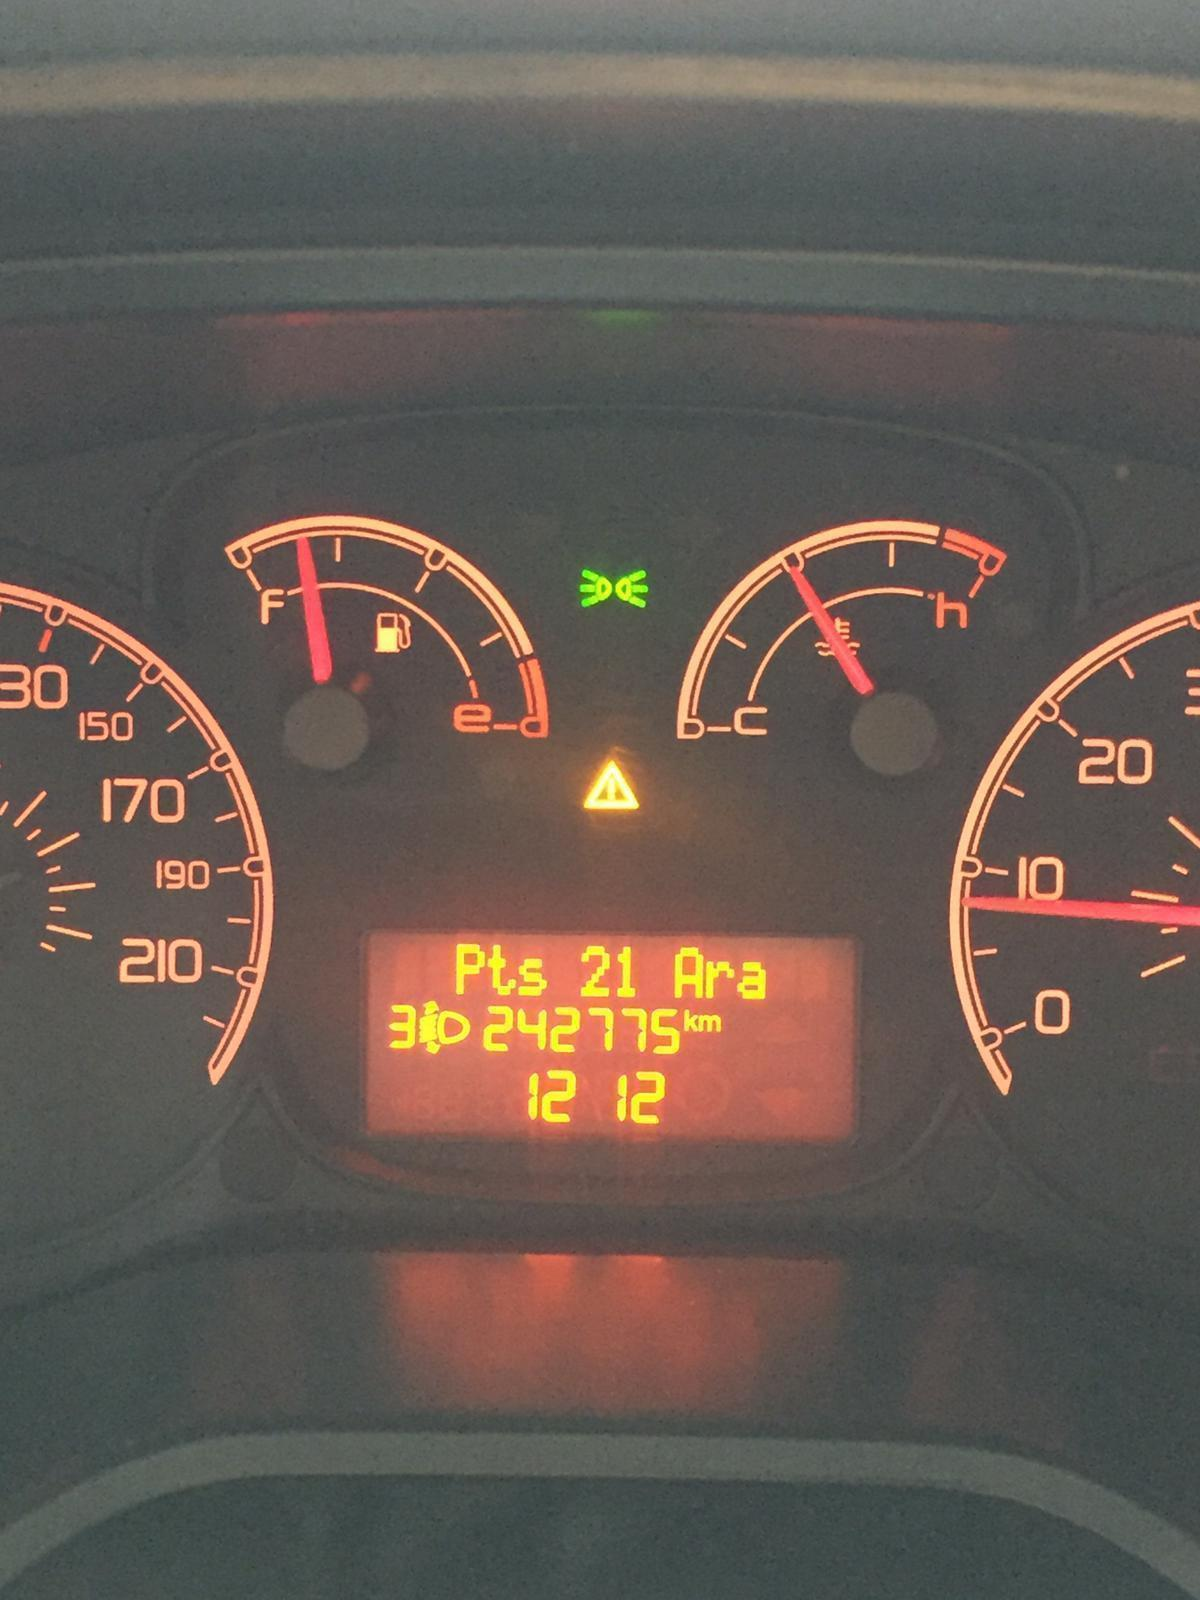1: (616, 939, 638, 999), (526, 1067, 542, 1128), (616, 1070, 628, 1128)
2: (545, 1066, 580, 1124), (632, 1068, 664, 1123), (582, 942, 610, 1002), (482, 1002, 512, 1053), (550, 1005, 579, 1053)
3: (387, 998, 413, 1052)
4: (516, 1004, 546, 1051)
5: (650, 1004, 679, 1056)
7: (586, 1005, 614, 1052), (621, 1004, 648, 1052)
X: (671, 946, 705, 1002), (453, 940, 483, 999), (485, 945, 516, 999), (739, 957, 766, 1002), (521, 954, 546, 997), (706, 959, 732, 998), (700, 1012, 722, 1034), (683, 1008, 700, 1036)
odometer: (350, 913, 871, 1160)
